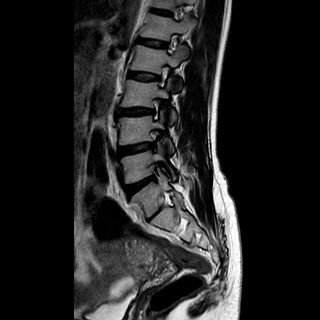LFS0: (152, 60, 176, 92)
